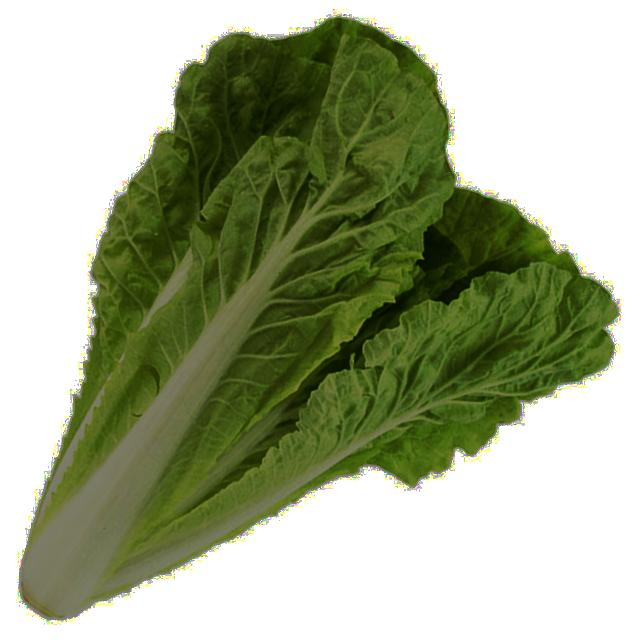chinese_cabbage: (44, 27, 601, 607)
